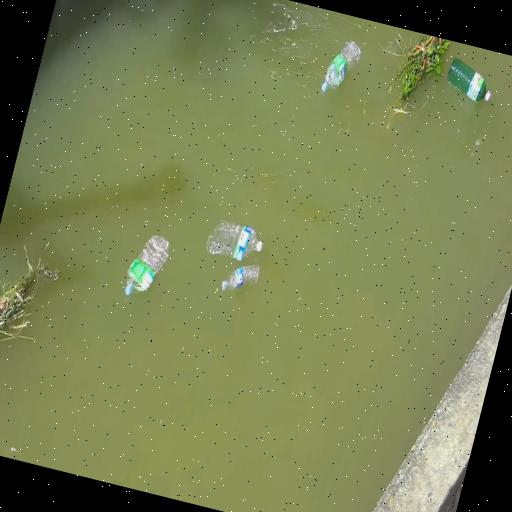plastic: (118, 226, 178, 309), (318, 36, 368, 101), (198, 217, 268, 263), (440, 52, 496, 108), (210, 260, 262, 304)
twig: (0, 232, 57, 380), (383, 28, 456, 112)
